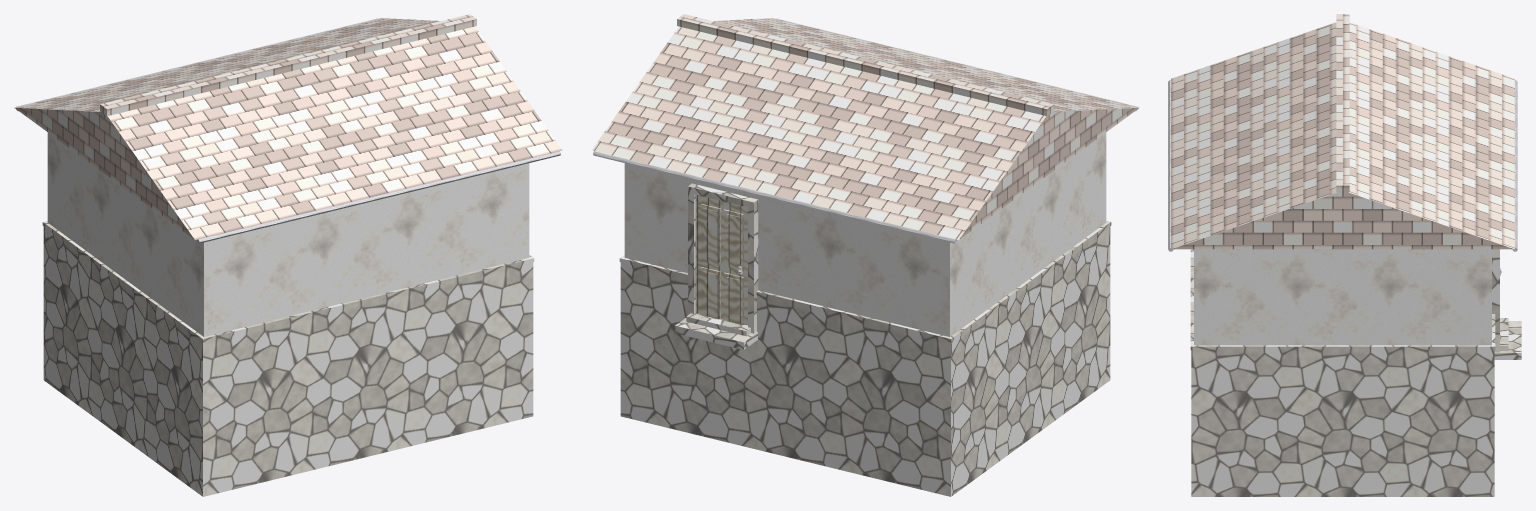
3 views of the same model, side by side, from view 1: azimuth 30°, elevation 25°; view 2: azimuth 150°, elevation 25°; view 3: azimuth 270°, elevation 25° (orthographic). The views are drawn at different scales.
Parts seen in each view (by area): view 1: b1096729689; view 2: b1096729689; view 3: b1096729689.
Boxes of the visible parts, <box> form: b1096729689: <box>14,14,562,496</box>; b1096729689: <box>591,14,1139,496</box>; b1096729689: <box>1168,14,1521,496</box>.
Size of the model in its own units: 6.14 by 5.34 by 5.34.
Materials: 11 (11 with a texture image).
